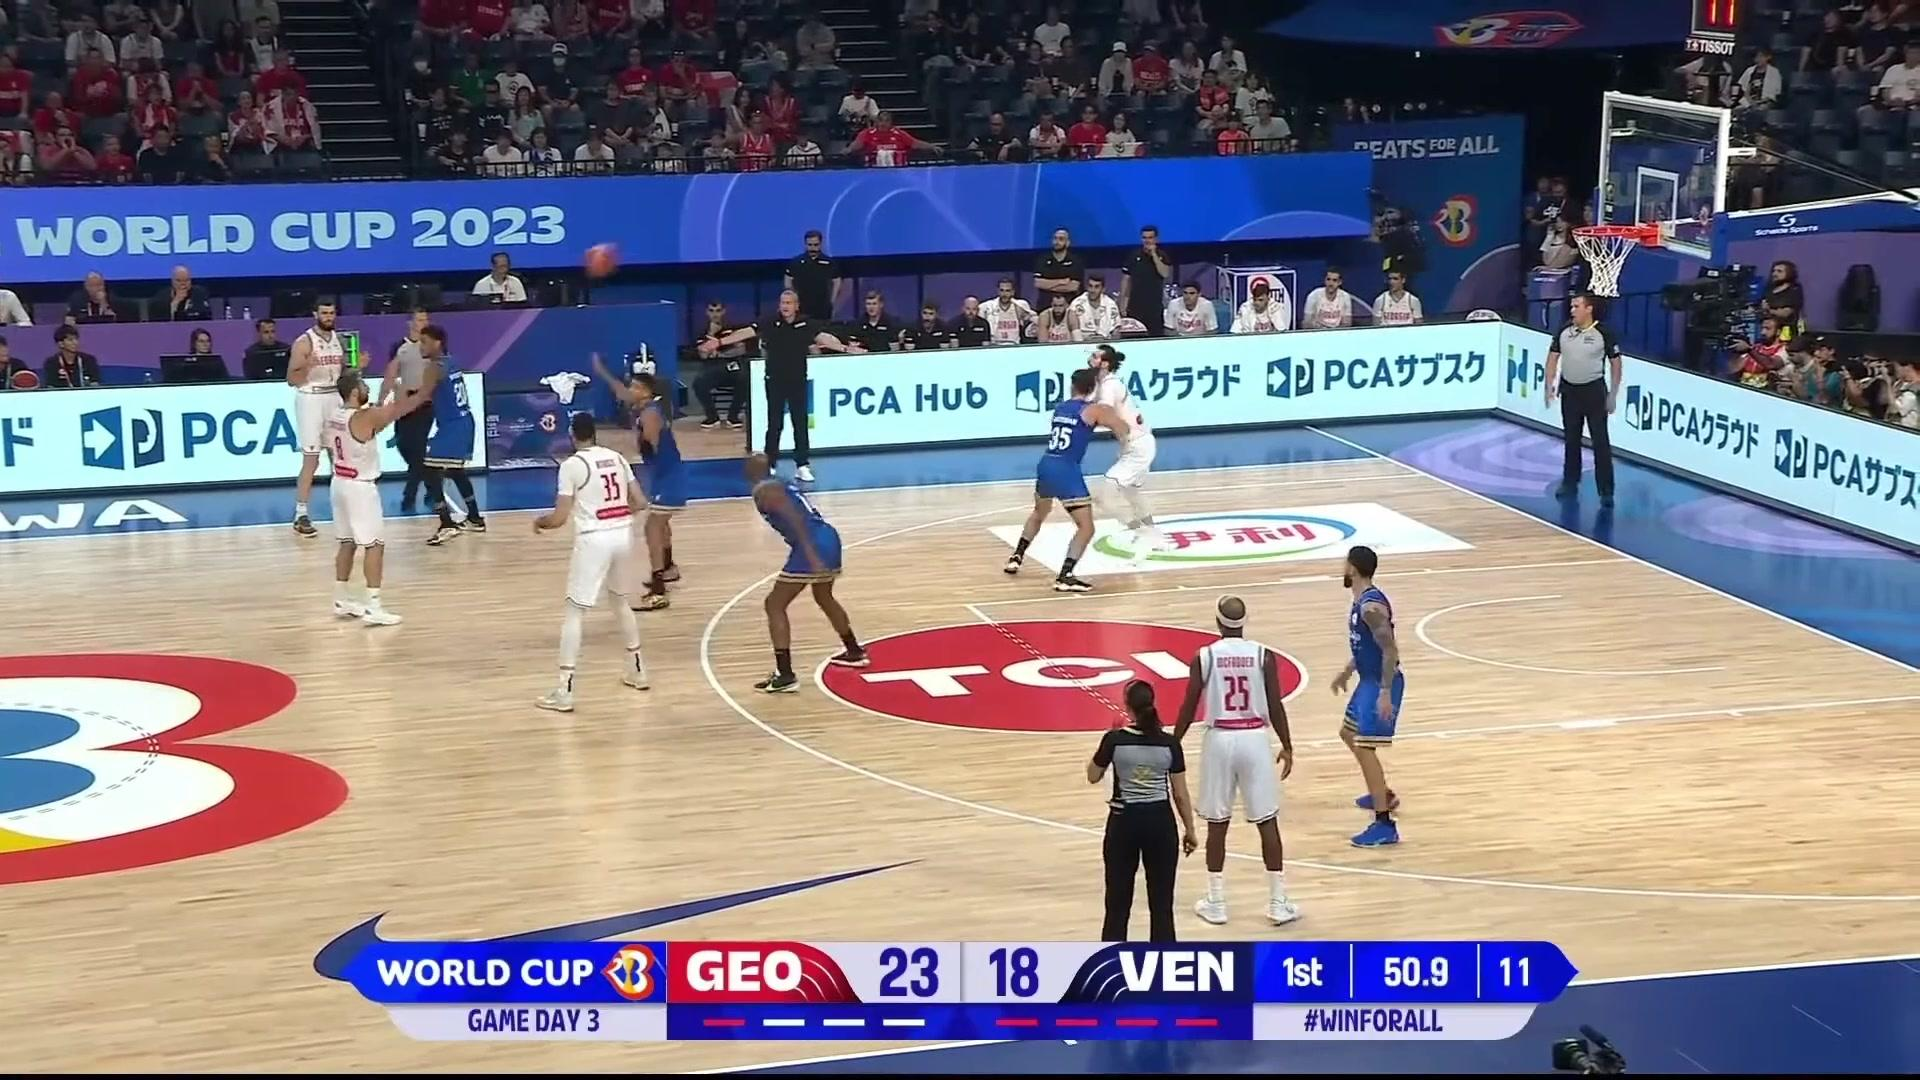foul: (1007, 339, 1187, 582)
